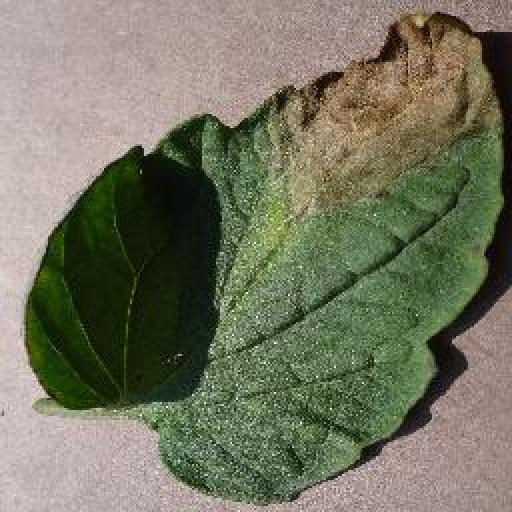Late Blight: (20, 12, 507, 500)
